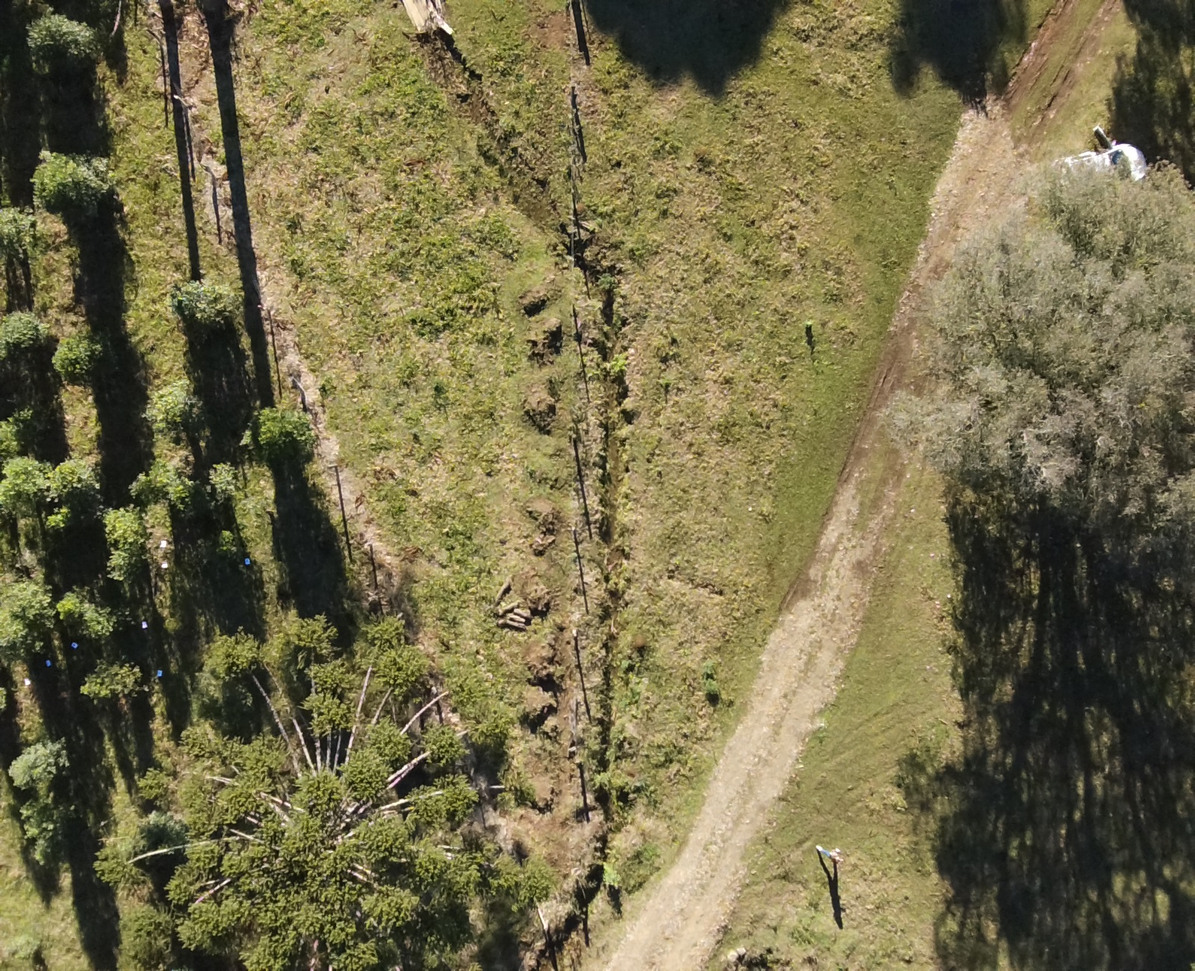erva: (24, 145, 128, 229), (158, 263, 250, 347), (23, 13, 105, 94), (252, 394, 329, 477), (3, 722, 71, 806), (0, 447, 62, 527), (43, 331, 118, 386), (0, 198, 55, 271), (0, 311, 53, 379), (72, 660, 147, 704), (149, 382, 211, 435), (52, 450, 101, 516), (95, 502, 154, 554), (145, 470, 202, 518), (0, 577, 55, 625), (0, 615, 51, 663), (199, 456, 245, 503), (55, 584, 105, 625), (93, 549, 138, 590), (207, 522, 253, 559), (34, 510, 78, 539), (84, 609, 122, 642)
